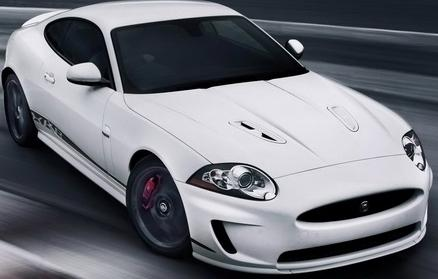front_view: (187, 141, 437, 274)
headlight: (181, 156, 283, 203)
side_glass: (36, 13, 119, 94)
